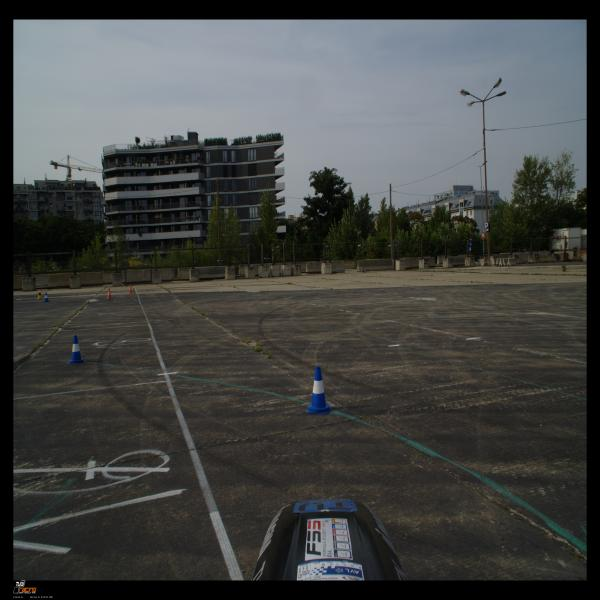blue_cone: (306, 366, 332, 414), (66, 335, 86, 364), (44, 292, 50, 302)
orange_cone: (106, 288, 112, 299), (128, 284, 133, 294)
yellow_cone: (37, 290, 43, 299)
